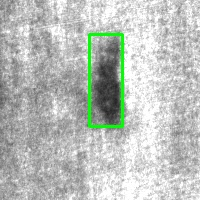patches: (89, 34, 122, 126)
